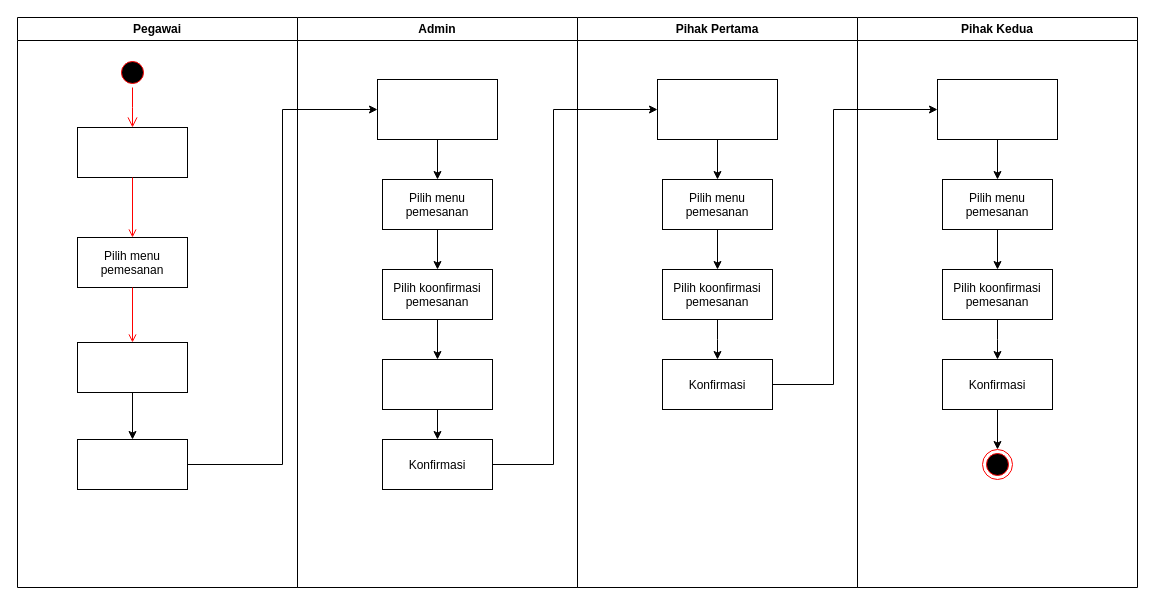
Image size: 1155x605. Some labels were removed from this diagram. Each missing label, with the centre of its shape:
"Isi form" goes at (437,384).
"Login admin" goes at (437,109).
"Login pegawai" goes at (132,152).
"Login pihak kedua" goes at (997,109).
"Login pihak pertama" goes at (717,109).
"Submit" goes at (132,464).
"Tambah data Pemesanan" goes at (132,367).
